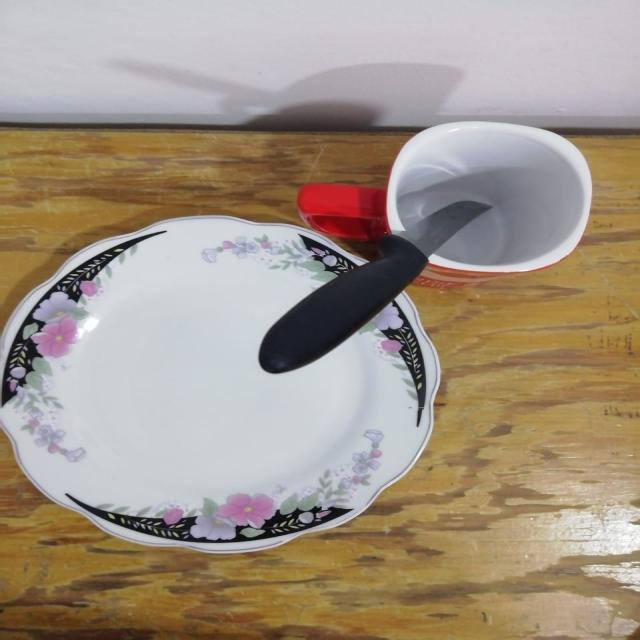non-organic waste: (0, 216, 427, 568)
